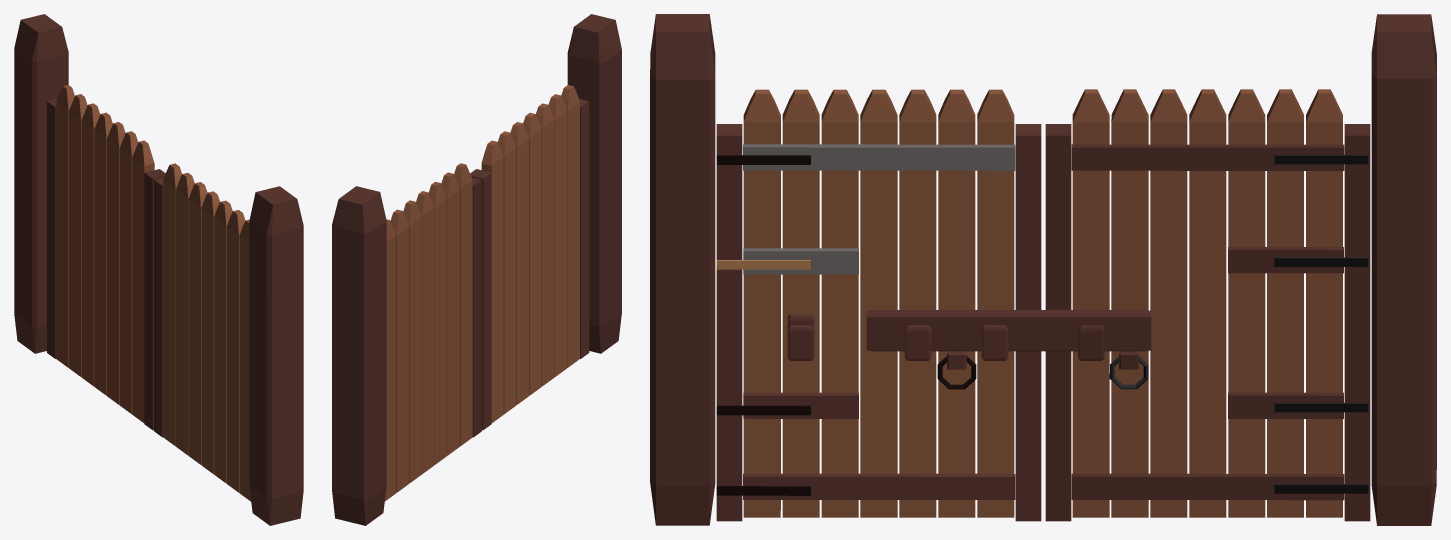
The model's file is gate_with_rings.fbx.
3 views of the same model, side by side, from view 1: azimuth 30°, elevation 25°; view 2: azimuth 150°, elevation 25°; view 3: azimuth 270°, elevation 25° (orthographic). The views are drawn at different scales.
Visible parts, largest first — view 1: gate right.001, gate left.001, stand left.001, stand right.001; view 2: gate left.001, gate right.001, stand right.001, stand left.001; view 3: gate right.001, gate left.001, stand right.001, stand left.001, balk.002.
Boxes of the visible parts, bbox=[...] form: gate right.001: bbox=[47, 85, 165, 430]; gate left.001: bbox=[154, 163, 251, 501]; stand left.001: bbox=[249, 186, 303, 525]; stand right.001: bbox=[14, 14, 68, 353]; gate left.001: bbox=[470, 85, 589, 430]; gate right.001: bbox=[385, 163, 481, 501]; stand right.001: bbox=[332, 186, 386, 525]; stand left.001: bbox=[567, 14, 621, 353]; gate right.001: bbox=[1045, 89, 1370, 521]; gate left.001: bbox=[716, 89, 1041, 521]; stand right.001: bbox=[1371, 14, 1436, 525]; stand left.001: bbox=[650, 14, 715, 525]; balk.002: bbox=[866, 310, 1151, 351].
Bounding box in the file's own units: 42.69 × 311 × 451.
